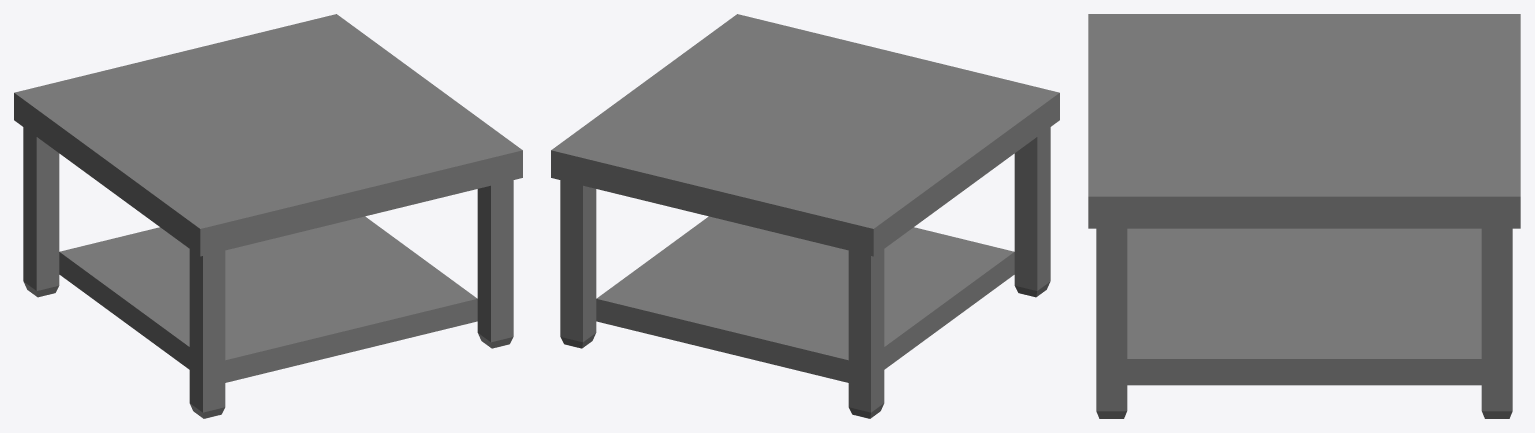
Rendered from Table_3.fbx.
3 views of the same model, side by side, from view 1: azimuth 30°, elevation 25°; view 2: azimuth 150°, elevation 25°; view 3: azimuth 270°, elevation 25° (orthographic). The views are drawn at different scales.
Parts seen in each view (by area): view 1: Table_3; view 2: Table_3; view 3: Table_3.
Boxes of the visible parts, box(x1,y1,x2,y2) form: Table_3: box(14, 14, 522, 418); Table_3: box(551, 14, 1059, 418); Table_3: box(1088, 14, 1520, 418).
Bounding box in the file's own units: 0.3963 × 0.2295 × 0.3963.
